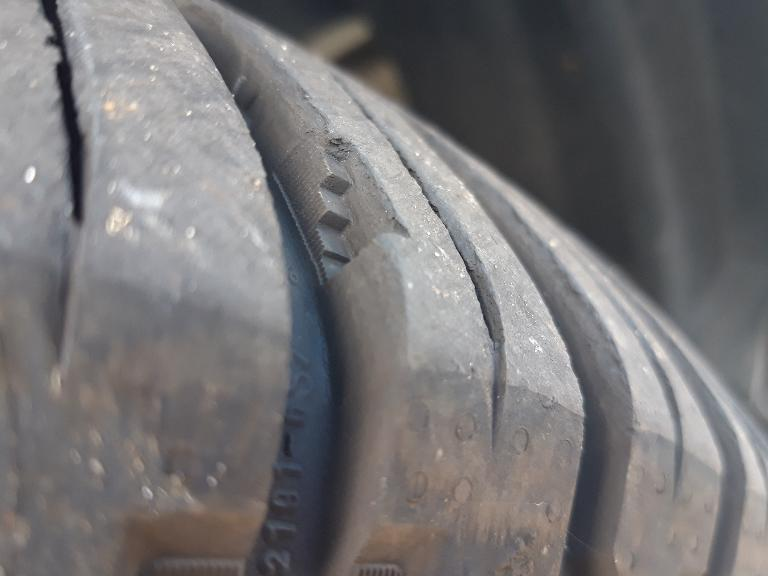temoin:90: (262, 110, 422, 297)
